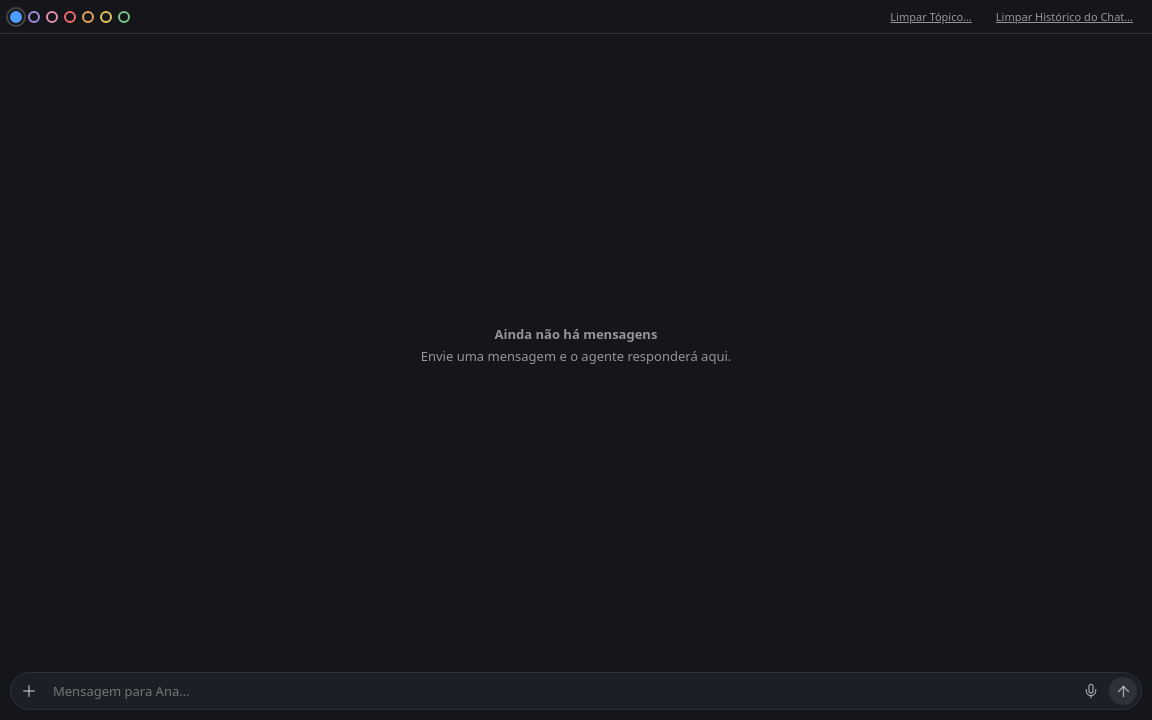
it: microfone no compositor › na primeira vez avisa o tamanho, baixa com andamento e só grava depois, a pedido
Later steps or results of the test are not shown.
Click the button with class "chat-mic" at (1091, 691), box left=1077, top=677, right=1105, bottom=705
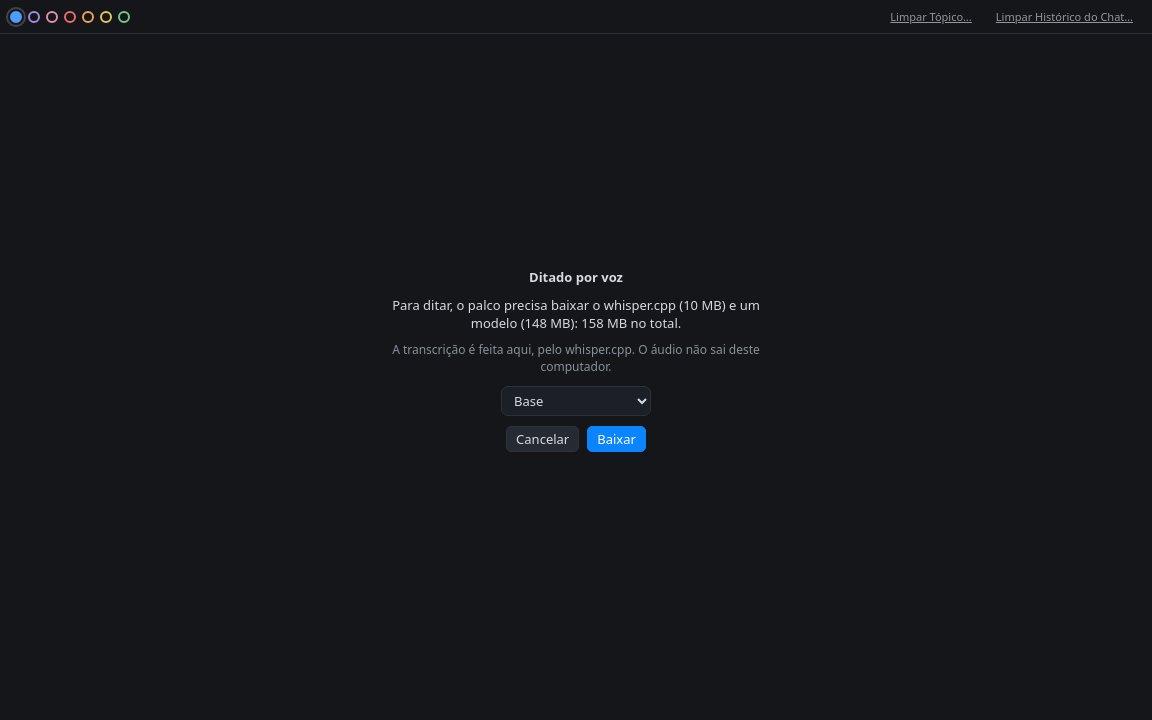
Expected: the dialog named "Ditado por voz" shows "158 MB", left=392, top=296, right=760, bottom=332
Expected: the dialog named "Ditado por voz" shows "O áudio não sai deste computador", left=392, top=341, right=760, bottom=375
